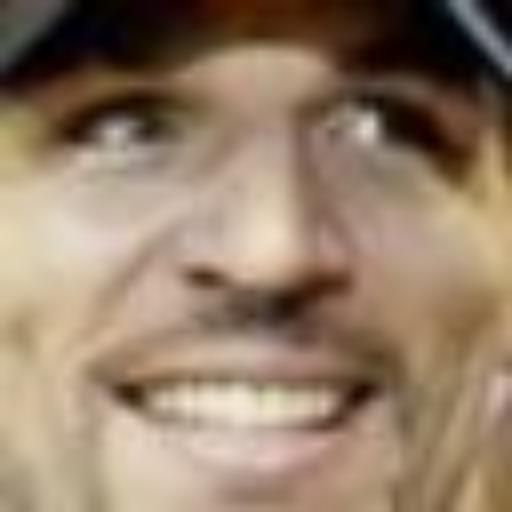left_lip_corner: (341, 372, 388, 404)
right_lip_corner: (94, 361, 168, 425)
